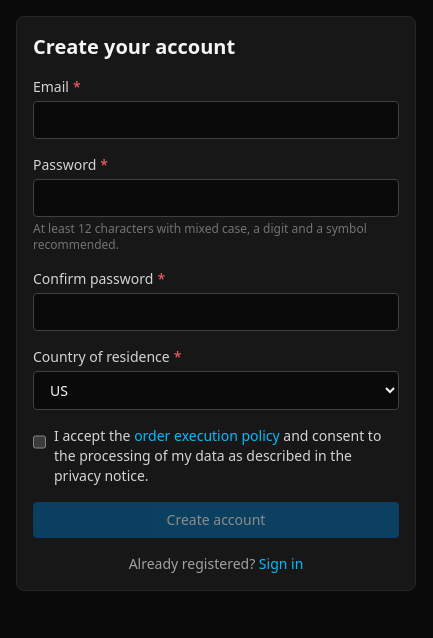
RegisterPage › registers and shows the email-verification interstitial
The width and height of the screenshot is (433, 638).
Type "new@user.io" into the field labelled "Email*". click: (216,120)
box: 33,101 -> 399,139
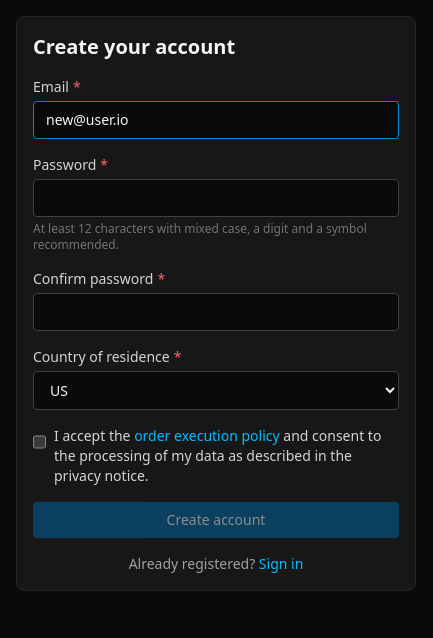
Type "LongPassw0rd!xyz" into the password field labelled "Password*". click: (216,198)
box: 33,179 -> 399,217
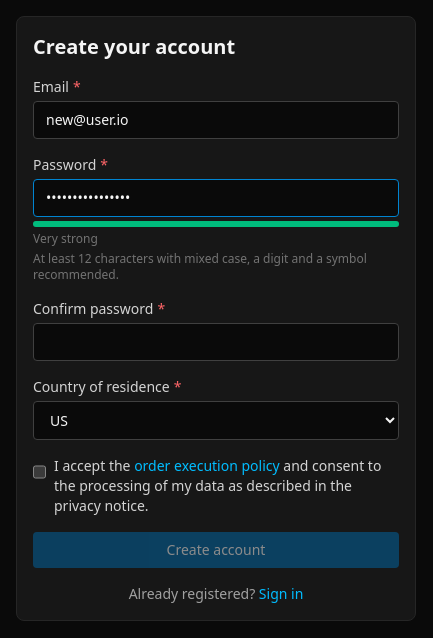
Type "LongPassw0rd!xyz" into the password field labelled "Confirm password*". click: (216,342)
box: 33,323 -> 399,361
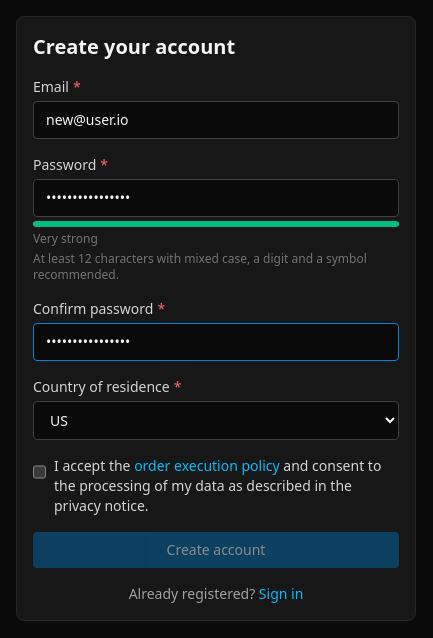
Click the checkbox. click: (40,472)
box: 33,460 -> 46,484
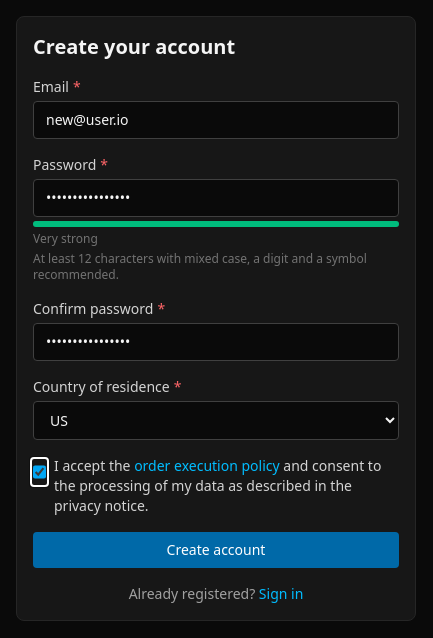
Click the button "Create account". click: (216,550)
box: 33,532 -> 399,568
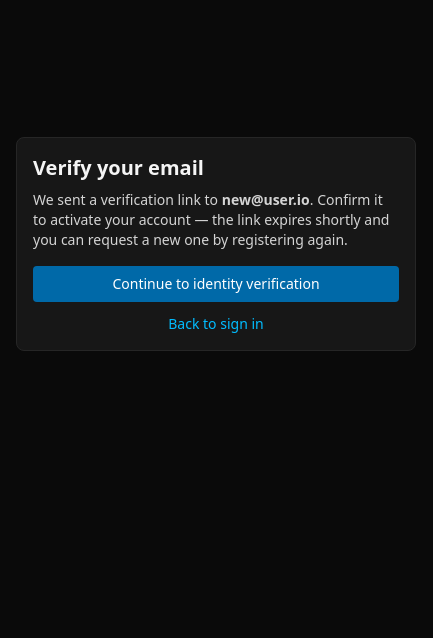
Check: the message shows "We sent a verification link", box 33,190 -> 222,209
